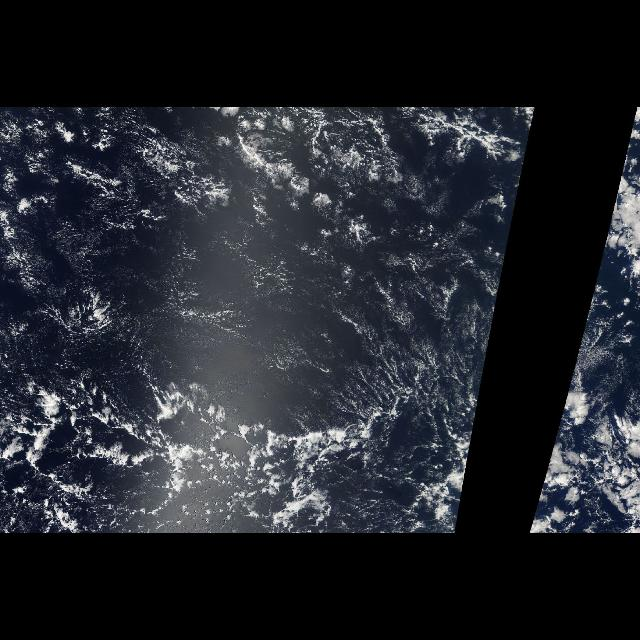Gravel: (2, 274, 502, 534), (572, 274, 640, 374)
Sugar: (2, 216, 502, 386)
